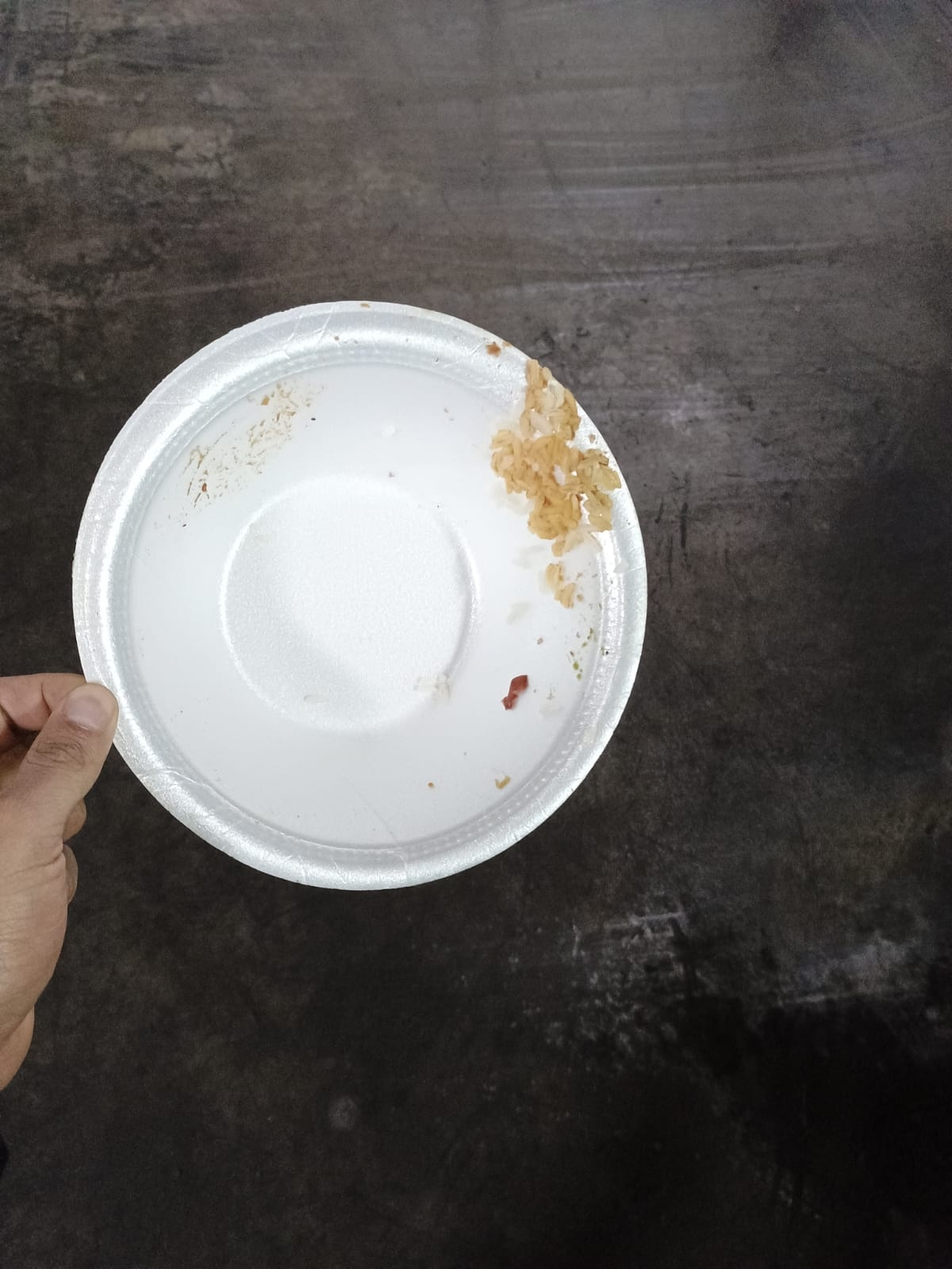Ordinario: (71, 299, 653, 890)
